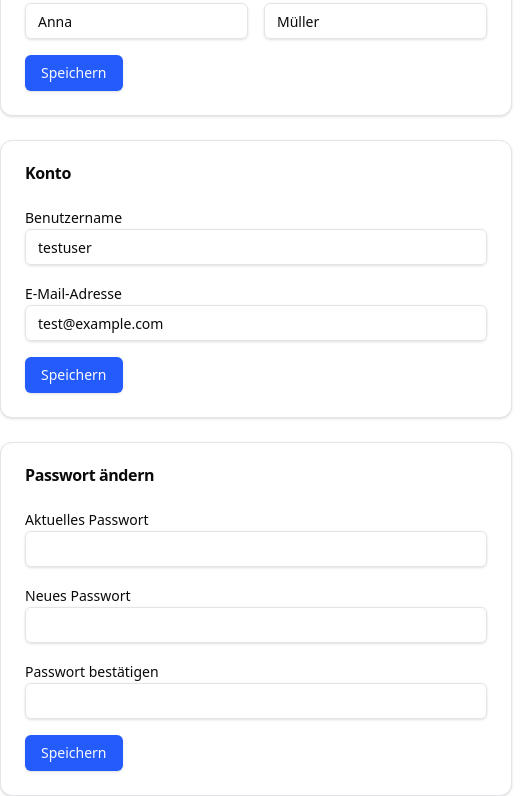
ProfilePage — Passwort section › shows 401 error message for wrong current password
(page scrolled)
Type "WrongPass123!" into the password field below "Aktuelles Passwort" at [256, 549], box [25,531,487,567]
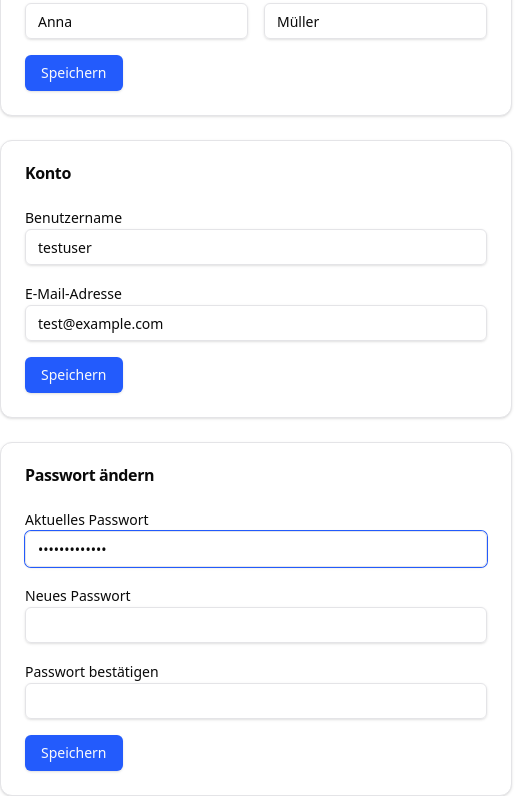
Type "NewPass456@XX" into the password field below "Neues Passwort" at [256, 625], box [25,607,487,643]
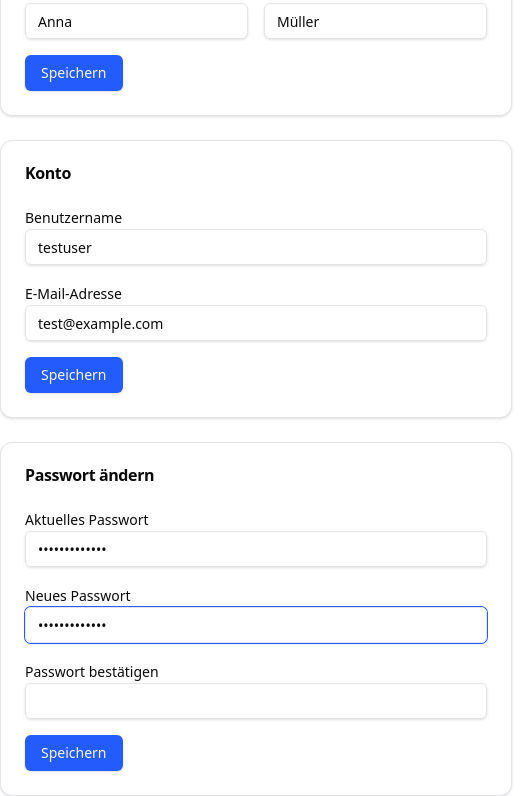
Type "NewPass456@XX" into the password field below "Passwort bestätigen" at [256, 701], box [25,683,487,719]
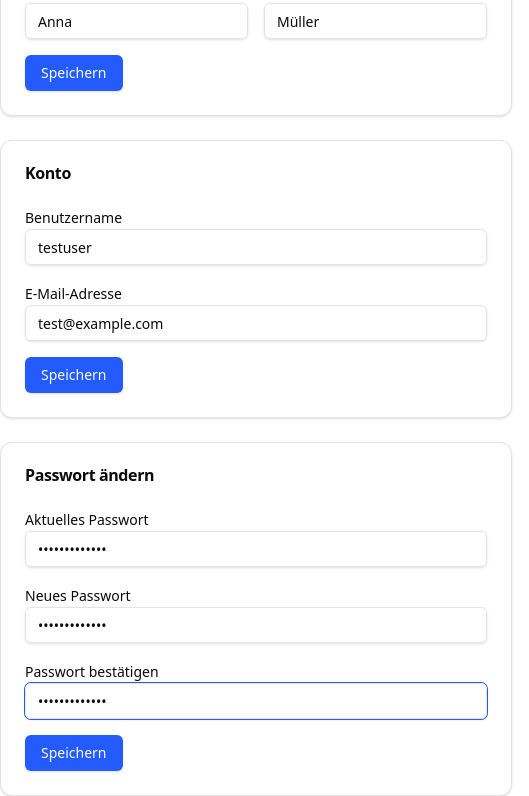
Click the button "Speichern" below "Passwort bestätigen" at [74, 753], box [25,735,122,771]
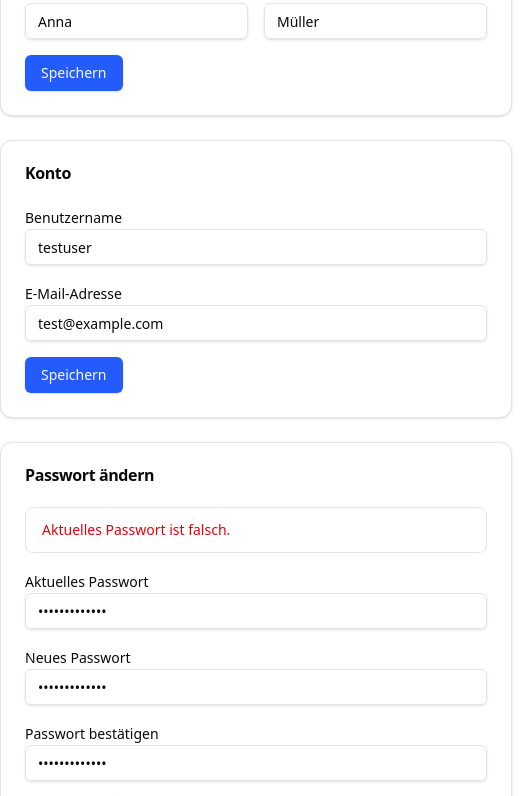
Expected: the text "Aktuelles Passwort ist falsch." is shown, [25,507,487,553]
